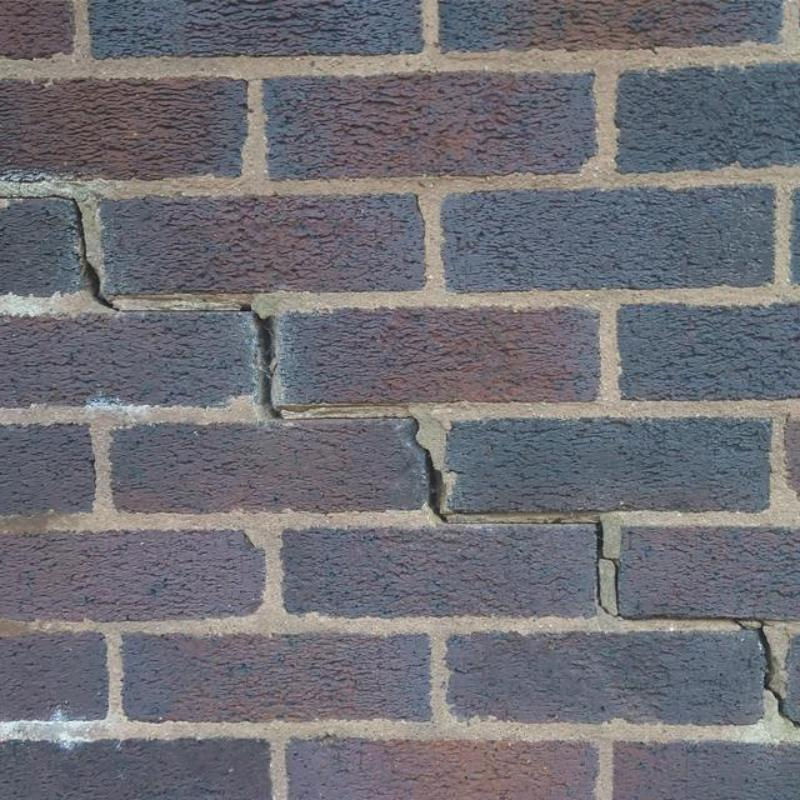crack: (730, 620, 799, 728), (0, 195, 86, 261), (241, 306, 284, 419), (304, 415, 420, 440), (416, 440, 447, 522), (596, 521, 620, 616), (86, 262, 117, 308), (446, 521, 596, 525), (119, 308, 239, 312)
